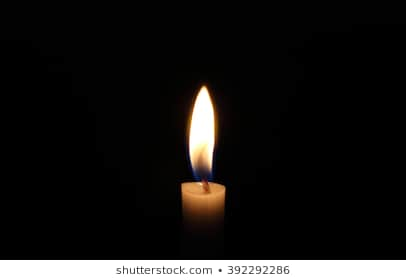Fire: (186, 81, 217, 182)
